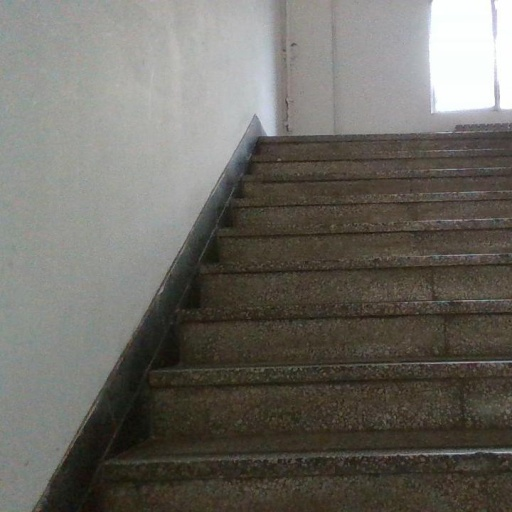Stairs: (34, 119, 512, 512)
